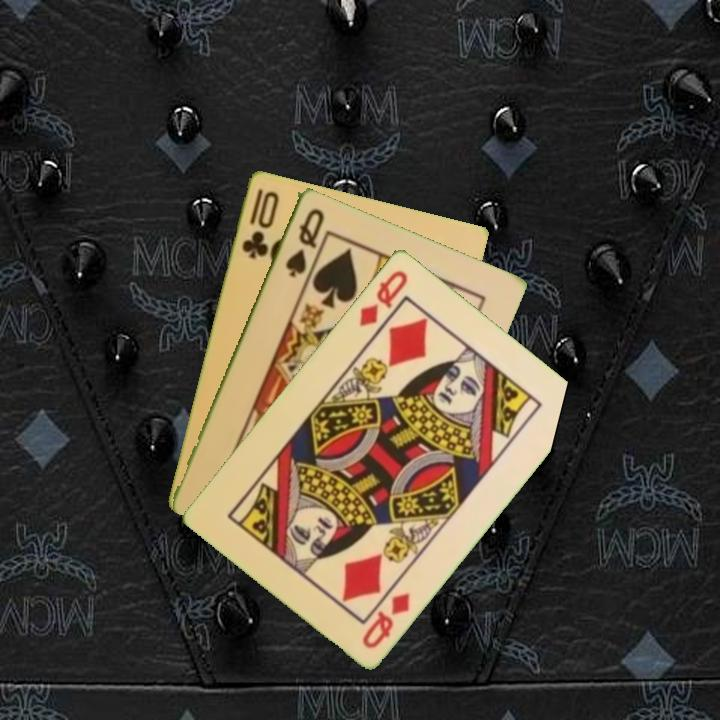10c: (238, 184, 282, 261)
Qd: (355, 266, 411, 329), (358, 588, 413, 651)
Qs: (281, 204, 327, 280)
